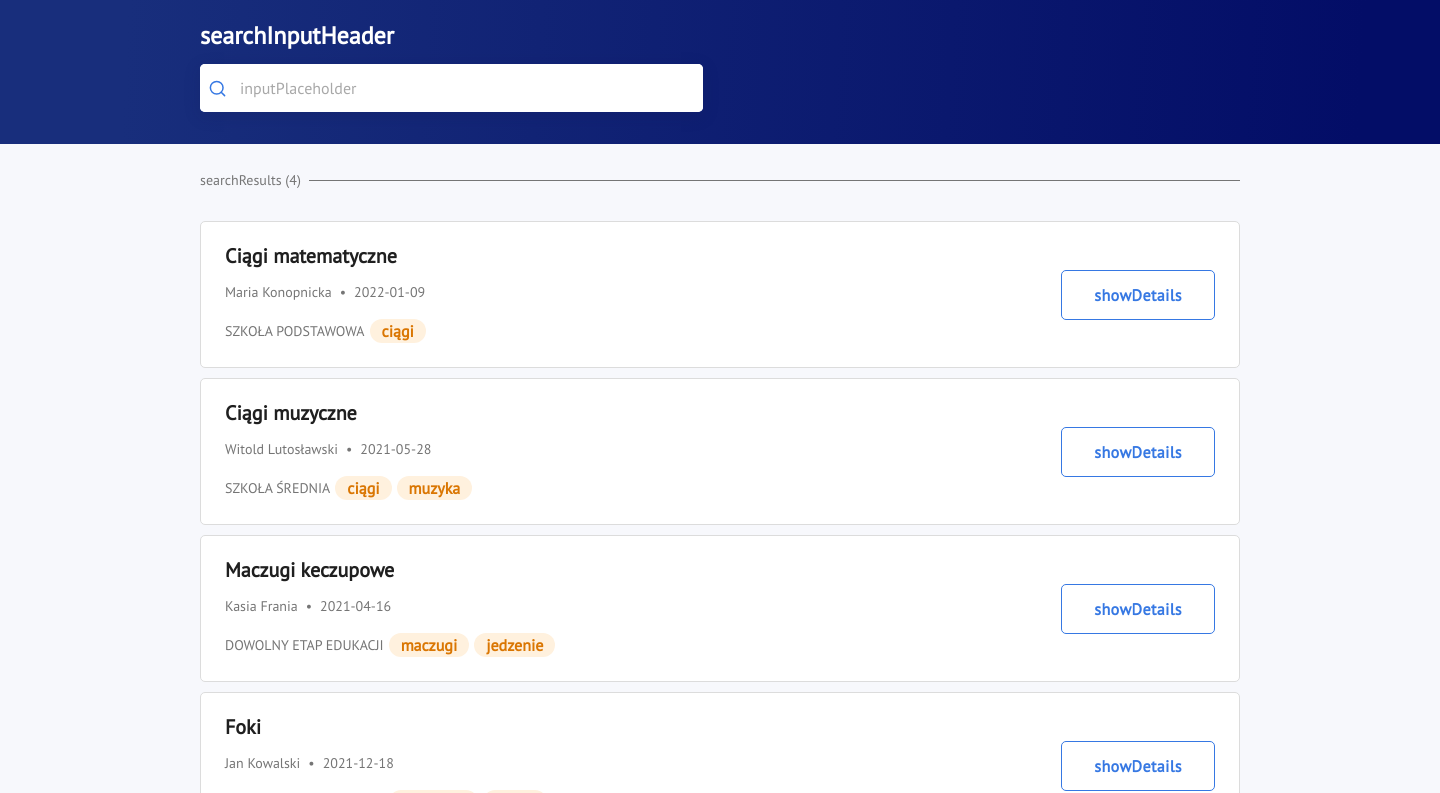
<ProblemsPage/> › should show suggestions list matching input value
Type "c" into the field labelled "inputPlaceholder".
click(452, 88); type("c")  # box x1=200 y1=64 x2=703 y2=112
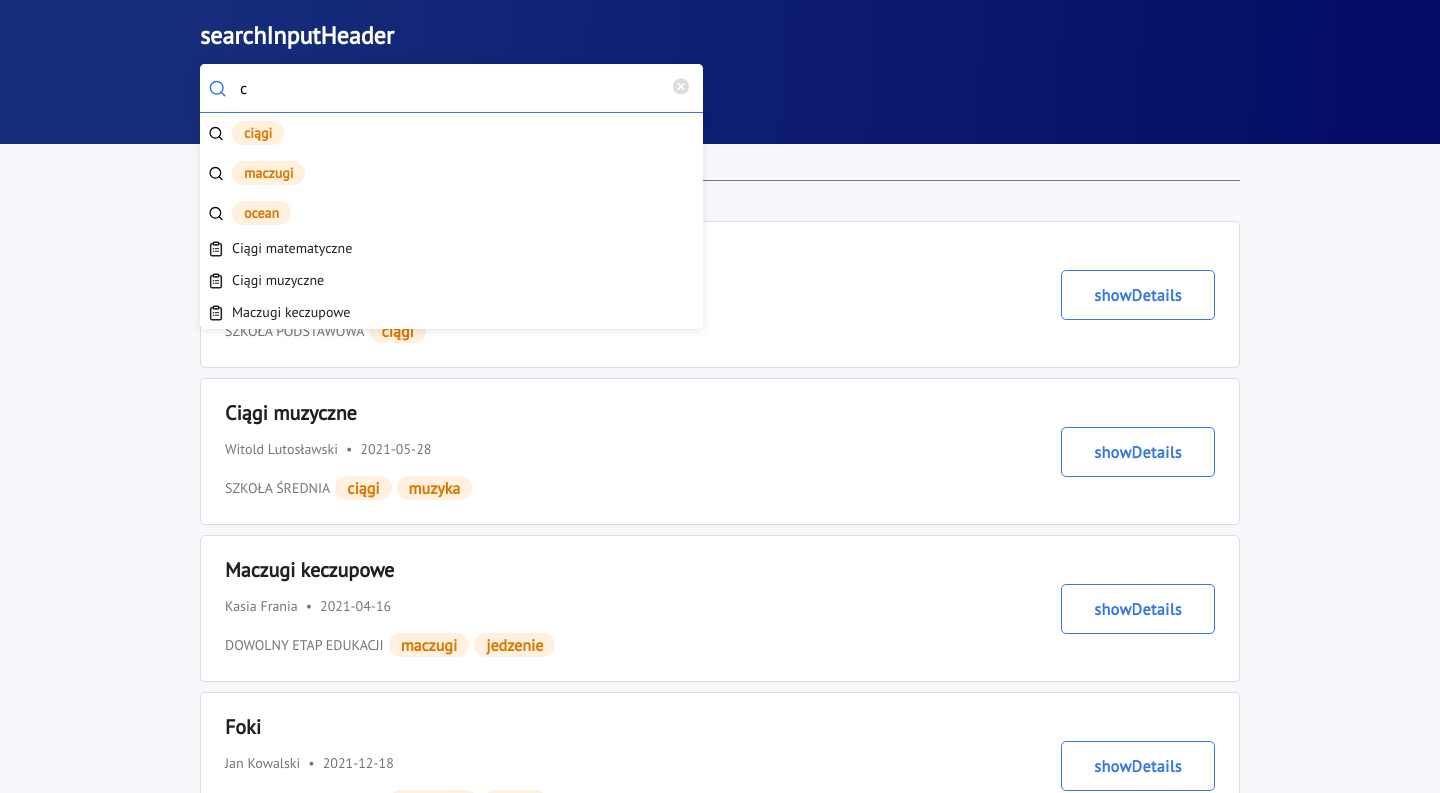
Expected: the number of list items is 6, x1=208 y1=121 x2=284 y2=145; x1=208 y1=161 x2=306 y2=185; x1=208 y1=201 x2=291 y2=225; x1=208 y1=239 x2=352 y2=257; x1=208 y1=271 x2=324 y2=289; x1=208 y1=303 x2=350 y2=321
